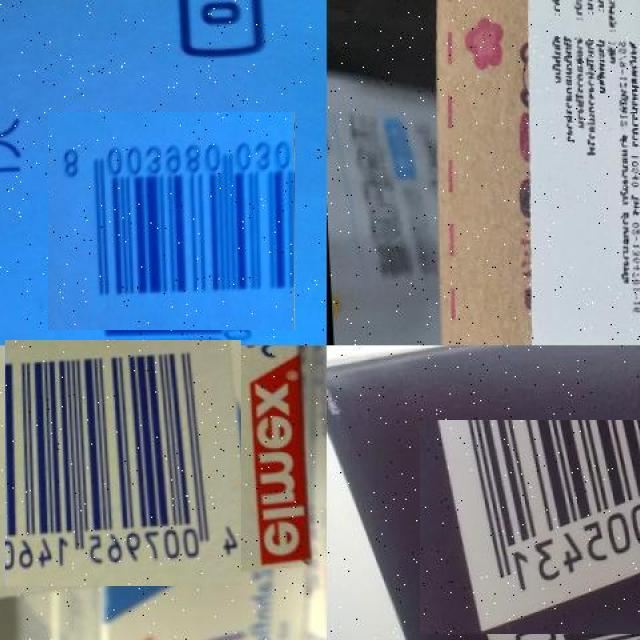Barcode: (2, 343, 244, 584), (55, 105, 289, 338), (423, 417, 640, 637)
